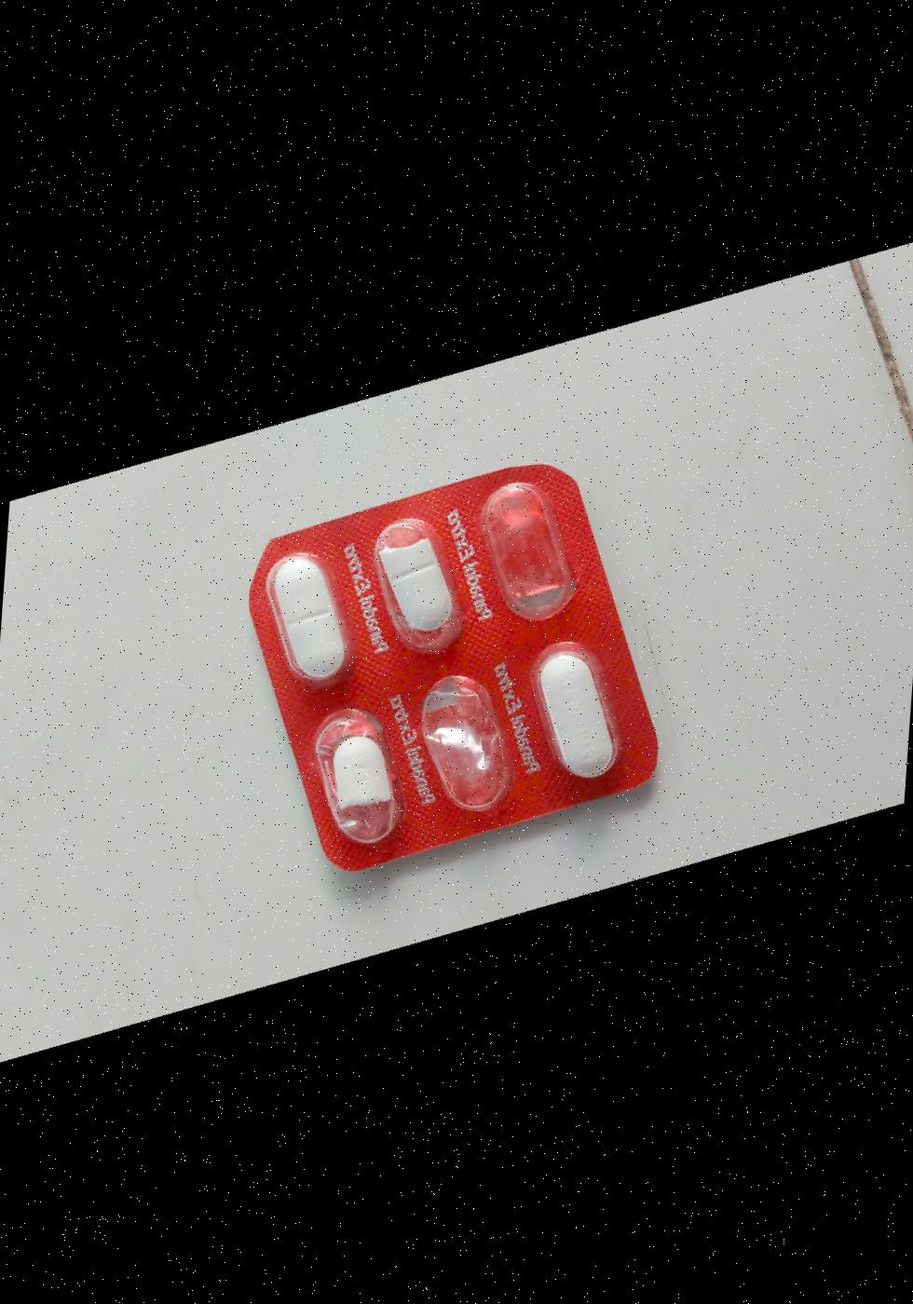Empty: (467, 470, 584, 634), (404, 659, 520, 823)
Full: (241, 532, 358, 697), (513, 631, 629, 796)
Partial: (297, 692, 414, 857), (358, 505, 474, 670)
